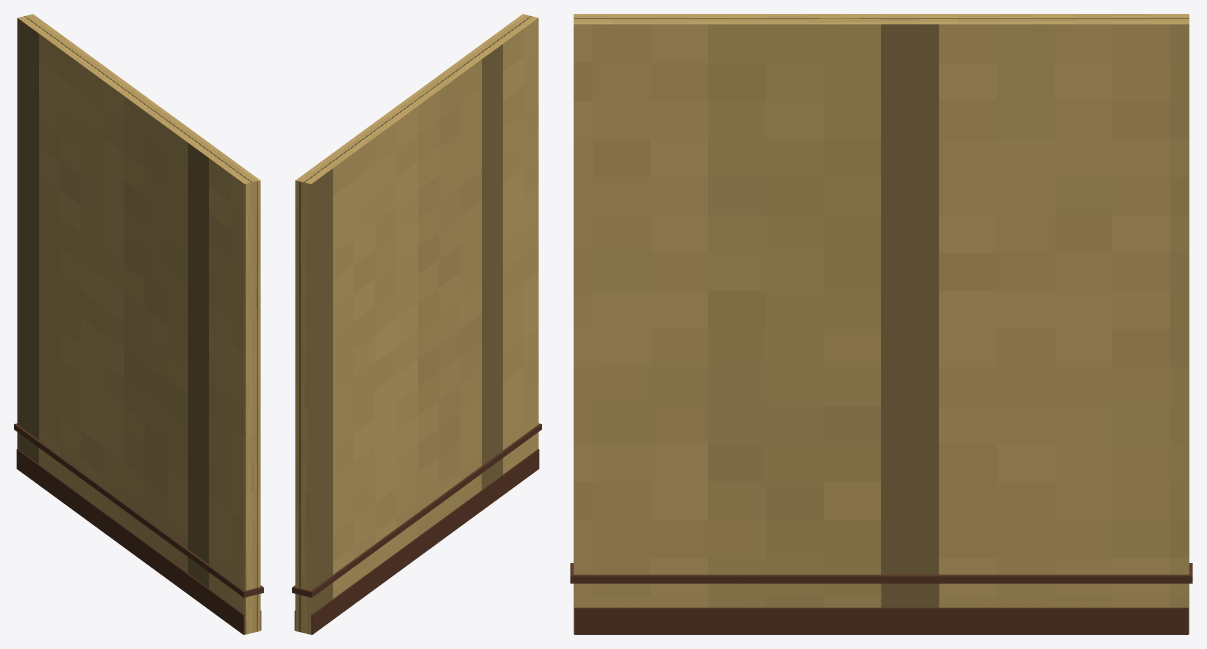
Rendered from stair_side.glb.
3 renders of one model, left to right at view 1: azimuth 30°, elevation 25°; view 2: azimuth 150°, elevation 25°; view 3: azimuth 270°, elevation 25°, orthographic. The views are drawn at different scales.
Parts seen in each view (by area): view 1: Box1, Box2, Box4, Box3; view 2: Box1, Box2, Box3, Box4; view 3: Box1, Box2, Box4, Box3.
Part boxes in pixels (x1,y1,x2,y2): Box1: (17,14,260,634); Box2: (16,449,261,634); Box4: (14,423,263,597); Box3: (17,432,260,633); Box1: (295,14,538,634); Box2: (294,449,539,634); Box3: (295,432,538,633); Box4: (292,423,541,597); Box1: (573,14,1189,633); Box2: (574,607,1188,634); Box4: (570,563,1192,583); Box3: (573,583,1188,619).
Size of the model in its own units: 0.19 by 4.1 by 3.79.
Materials: 2 (1 with a texture image).
